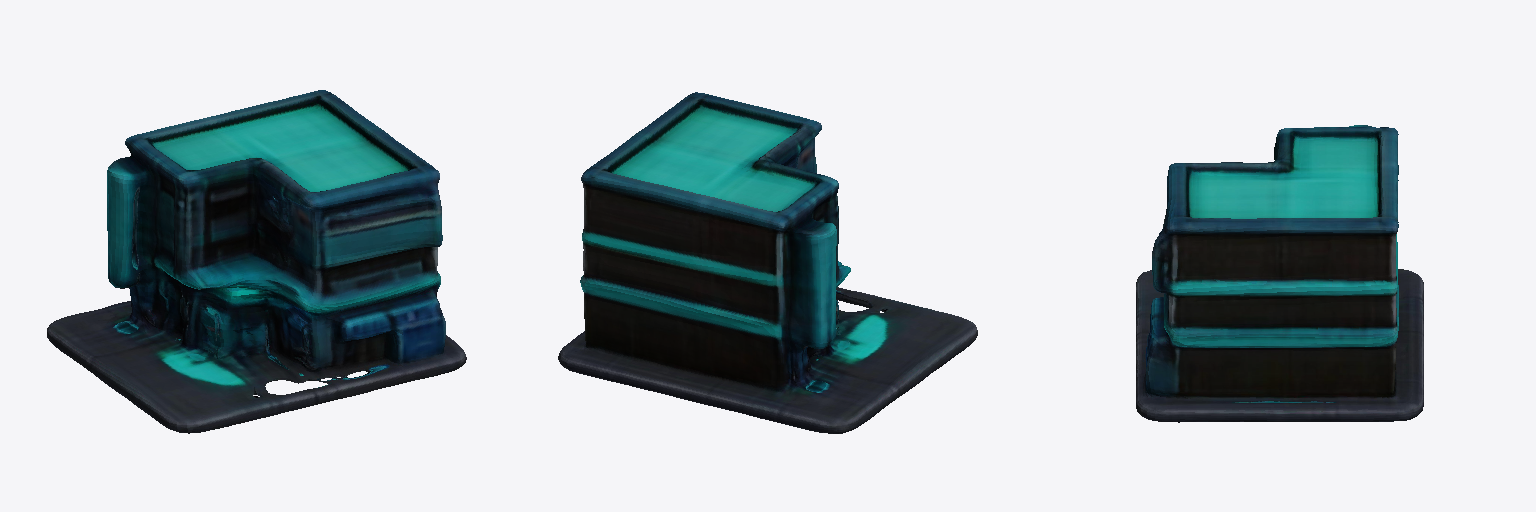
The picture shows the model from 3 angles: view 1: azimuth 30°, elevation 25°; view 2: azimuth 150°, elevation 25°; view 3: azimuth 270°, elevation 25°; orthographic projection.
Visible parts, largest first — view 1: mesh; view 2: mesh; view 3: mesh.
Part boxes in pixels (x1,y1,x2,y2): mesh: (47, 90, 466, 433); mesh: (558, 92, 977, 433); mesh: (1136, 125, 1423, 422).
Bounding box in the file's own units: 0.9998 × 0.6148 × 0.8402.
Materials: 1 (1 with a texture image).